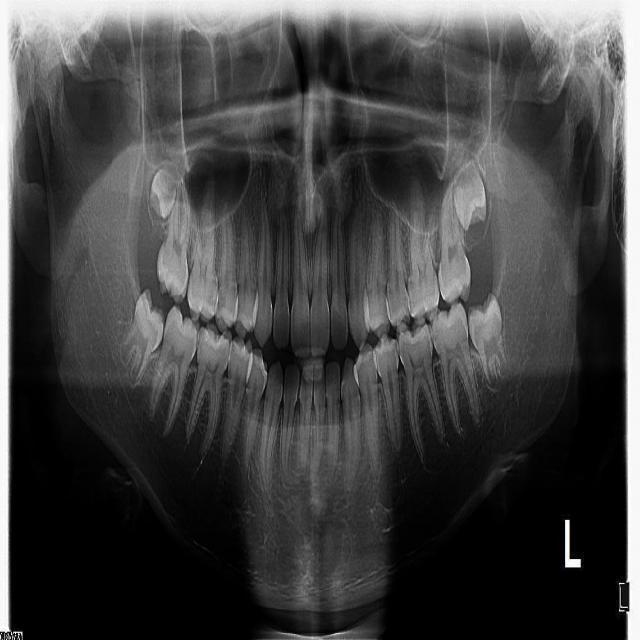Caries: (208, 279, 219, 310), (216, 287, 227, 315)
impacted tooth: (453, 160, 490, 232), (145, 163, 183, 219), (133, 289, 168, 345), (469, 297, 504, 340)
